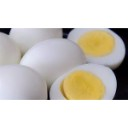begg: (49, 65, 116, 99), (69, 28, 124, 63), (10, 28, 63, 54)
